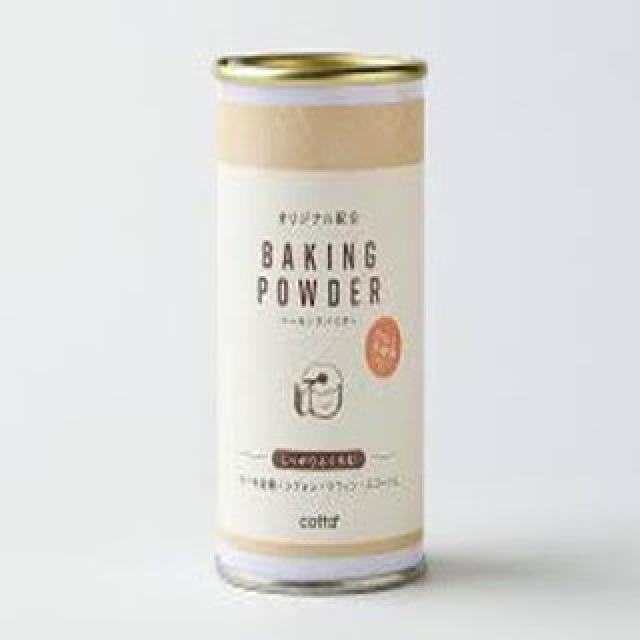can: (193, 53, 430, 602)
